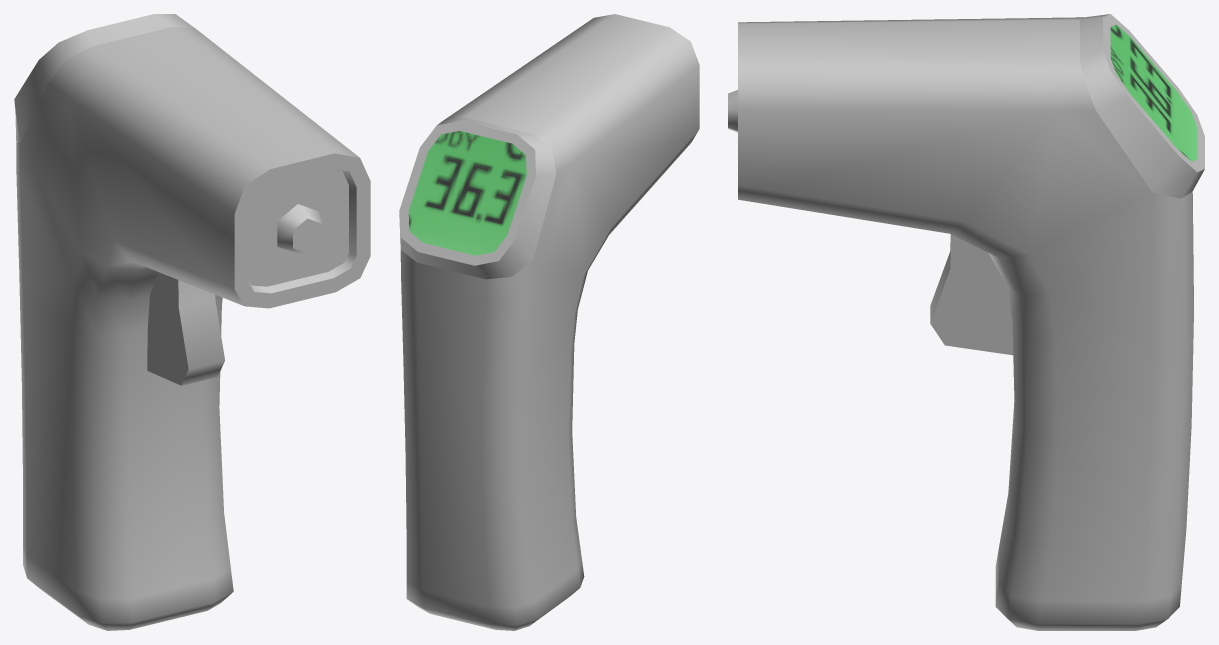
The model's file is Thermometer_01.fbx.
The picture shows the model from 3 angles, left to right: view 1: azimuth 30°, elevation 25°; view 2: azimuth 150°, elevation 25°; view 3: azimuth 270°, elevation 25°; orthographic projection. The views are drawn at different scales.
Parts seen in each view (by area): view 1: Thermometer_01; view 2: Thermometer_01; view 3: Thermometer_01.
Part boxes in pixels (x1,y1,x2,y2): Thermometer_01: [14, 14, 370, 630]; Thermometer_01: [399, 14, 699, 630]; Thermometer_01: [728, 14, 1204, 630].
Bounding box in the file's own units: 6 × 16.16 × 21.16.
